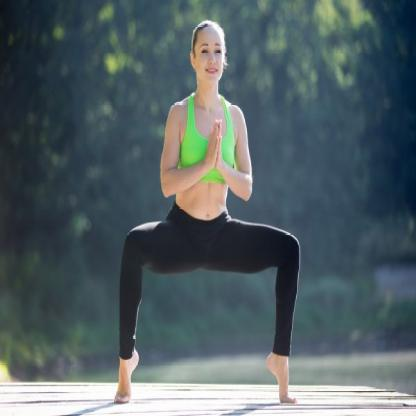godness: (108, 14, 302, 412)
